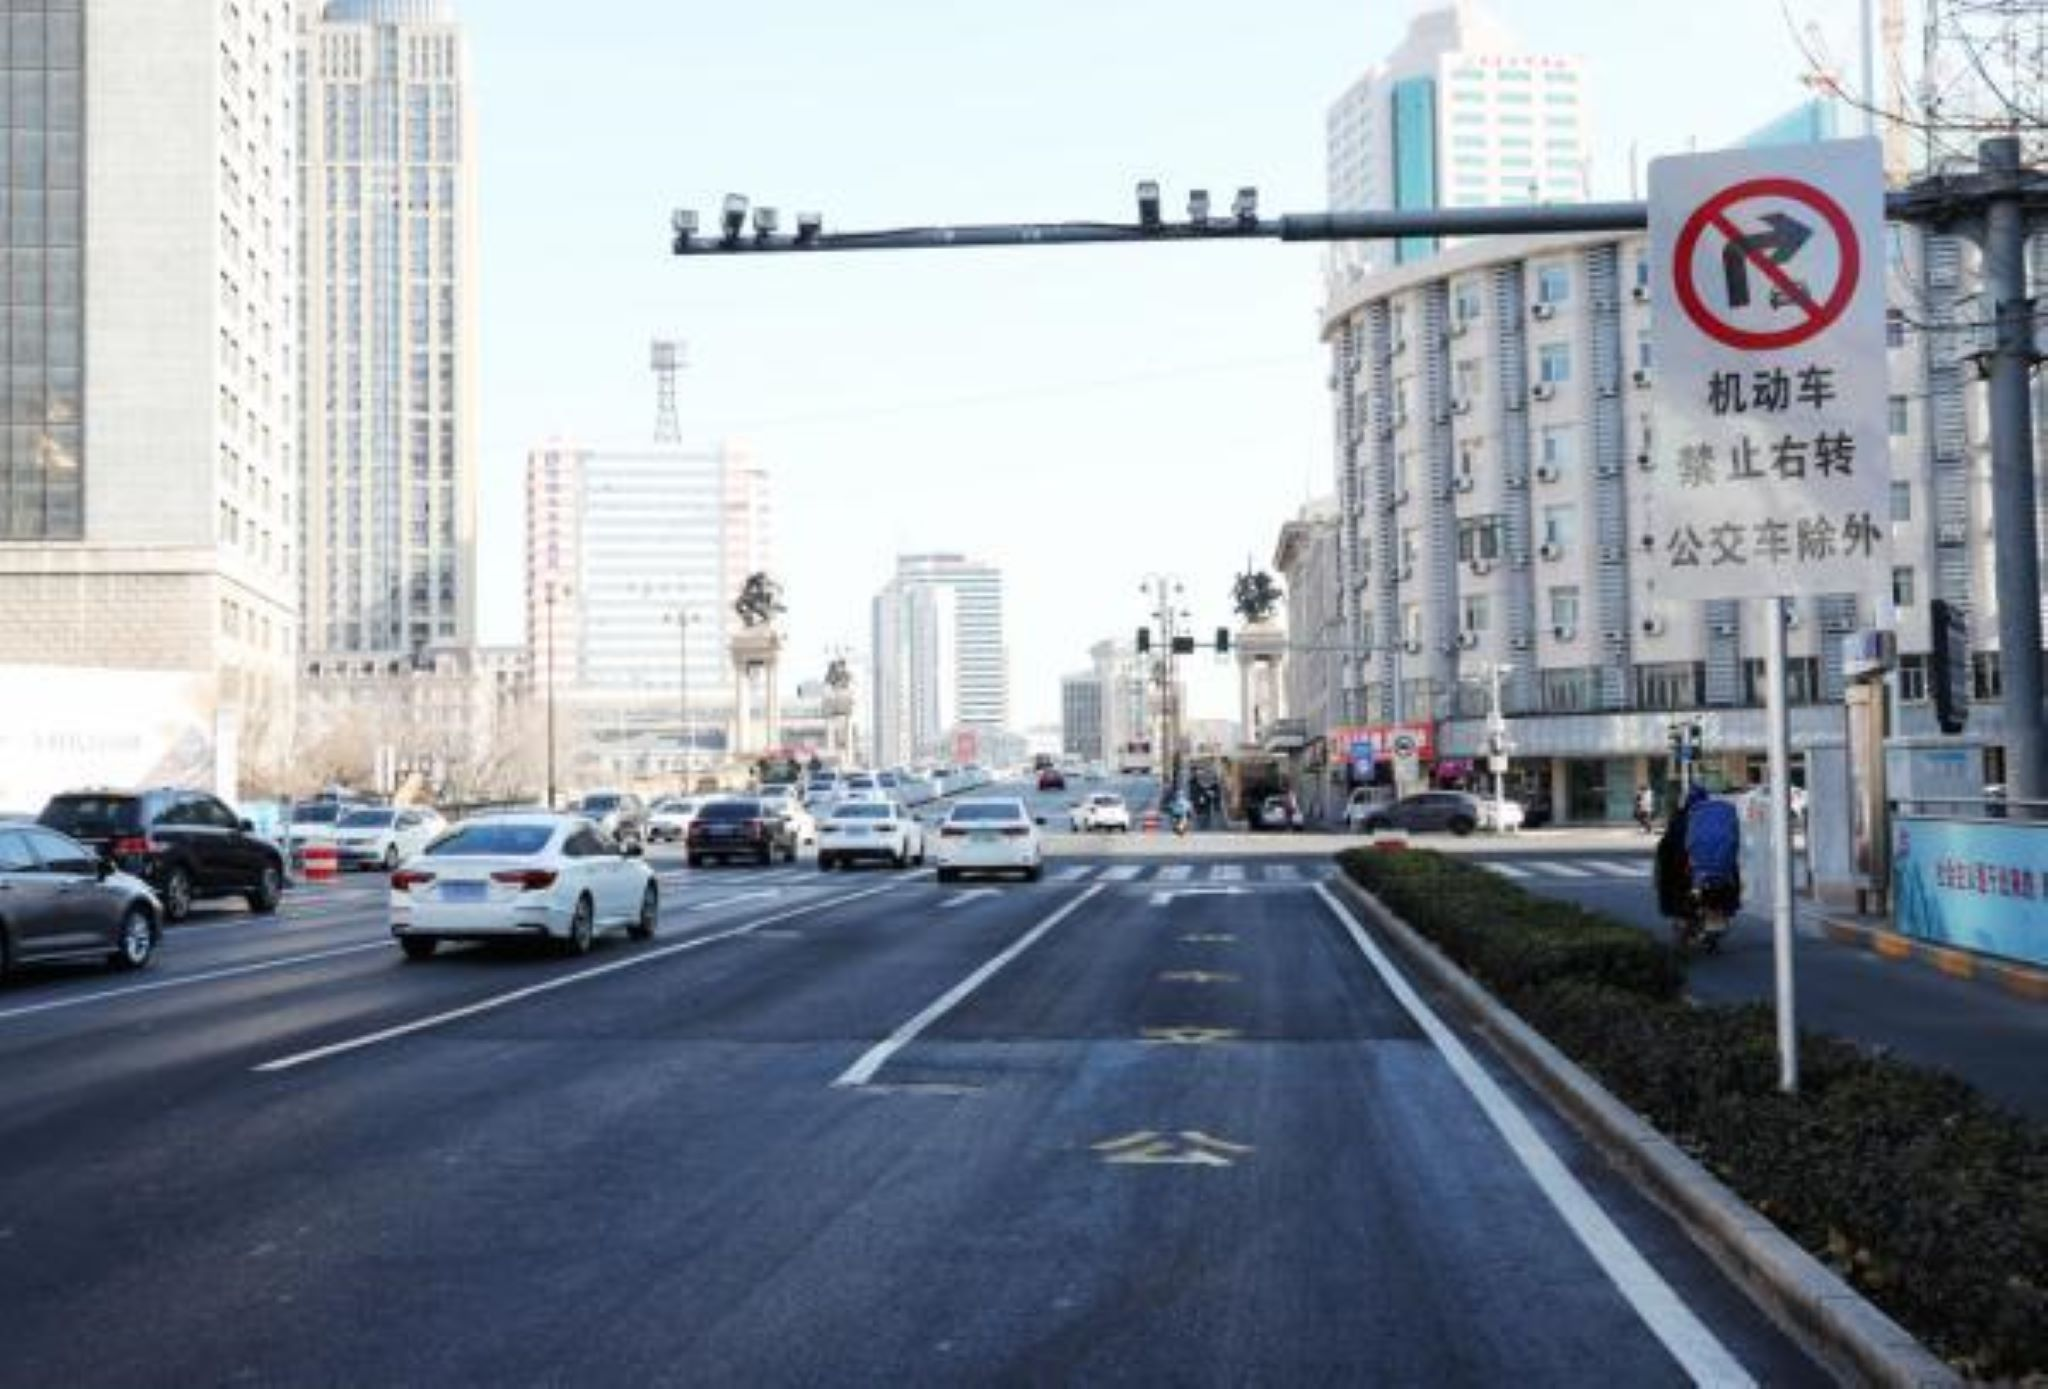p24: (1674, 175, 1856, 346)
